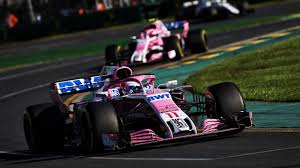FormulaOneCar: (22, 61, 259, 156), (101, 15, 210, 66)
